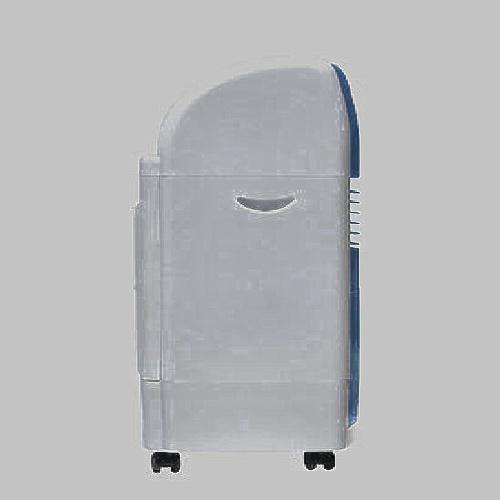fan: (122, 62, 378, 482)
